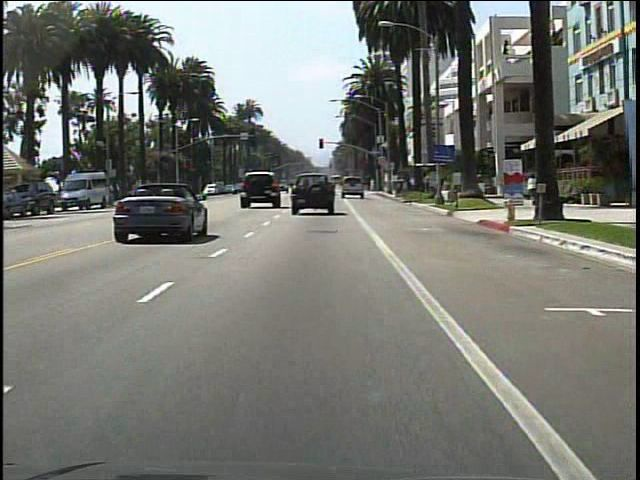person: (524, 170, 541, 210)
